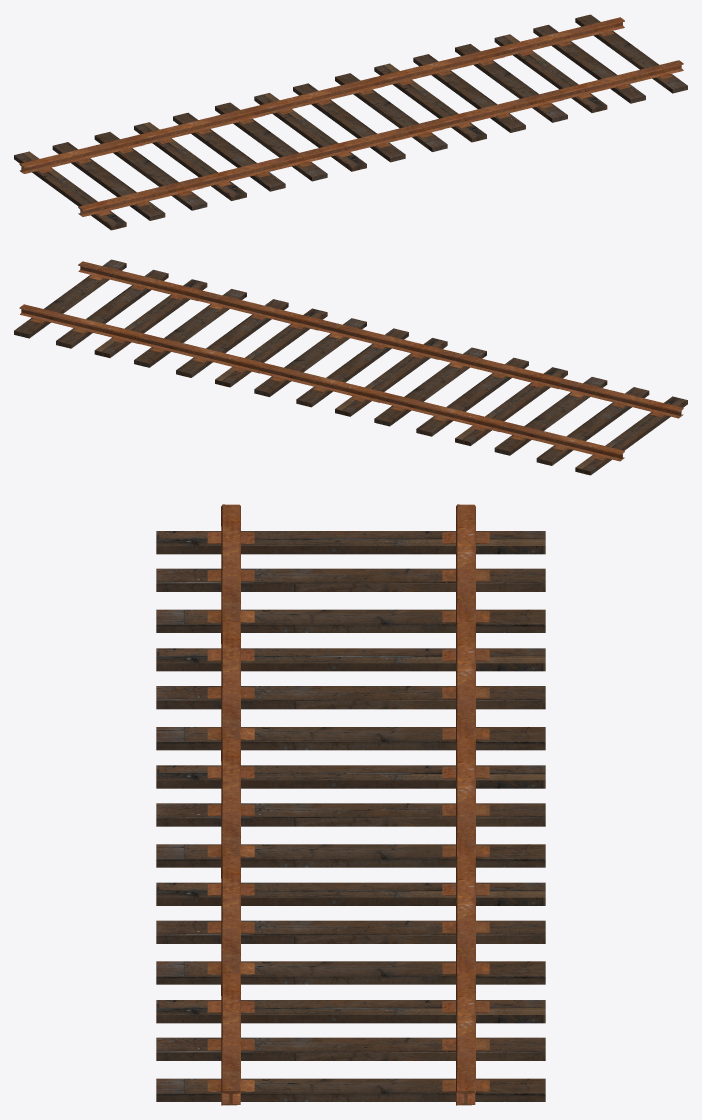
Rendered from train_tracks.glb.
3 views of the same model, one above another, from view 1: azimuth 30°, elevation 25°; view 2: azimuth 150°, elevation 25°; view 3: azimuth 270°, elevation 25° (orthographic). The views are drawn at different scales.
Visible parts, largest first — view 1: Cube.001; view 2: Cube.001; view 3: Cube.001.
Part boxes in pixels (x1,y1,x2,y2): Cube.001: (14, 14, 687, 230); Cube.001: (14, 259, 687, 475); Cube.001: (156, 504, 545, 1105).
Bounding box in the file's own units: 16.9 × 0.3088 × 4.74.
2 materials, 2 textured.
